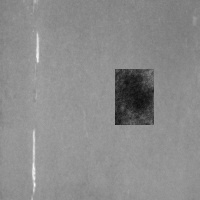patches: (115, 69, 154, 125)
scratches: (25, 126, 41, 199), (31, 30, 42, 66)
